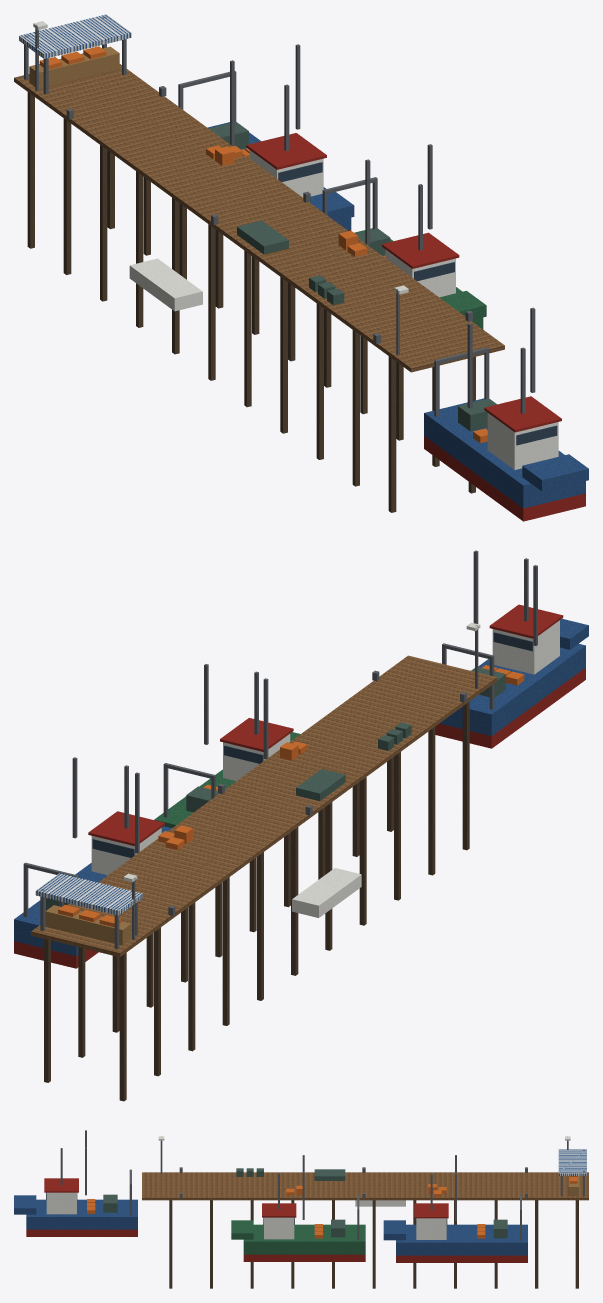
Rendered from fishers_jetty.glb.
3 views of the same model, one above another, from view 1: azimuth 30°, elevation 25°; view 2: azimuth 150°, elevation 25°; view 3: azimuth 270°, elevation 25° (orthographic). The views are drawn at different scales.
Parts seen in each view (by area): view 1: fishers_jetty; view 2: fishers_jetty; view 3: fishers_jetty.
Part boxes in pixels (bbox=[...]): fishers_jetty: bbox=[14, 14, 588, 521]; fishers_jetty: bbox=[14, 550, 588, 1101]; fishers_jetty: bbox=[14, 1130, 588, 1288].
Bounding box in the file's own units: 13.7 × 14.8 × 56.6.
12 materials, 12 textured.
